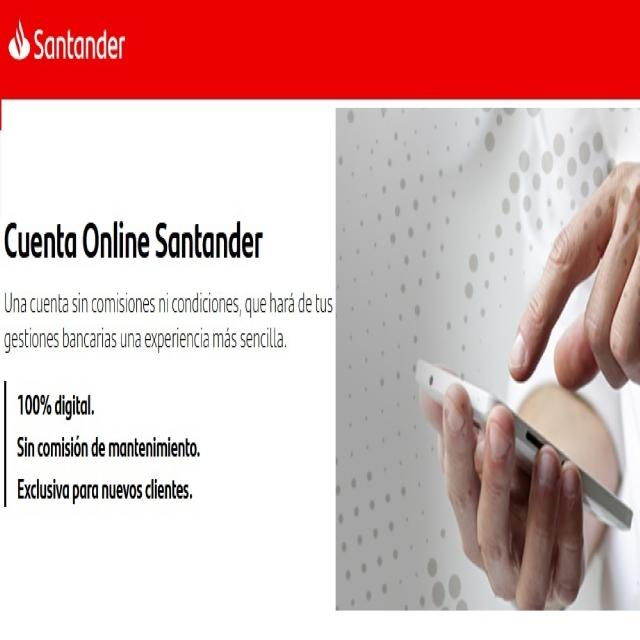santander: (8, 20, 31, 61)
